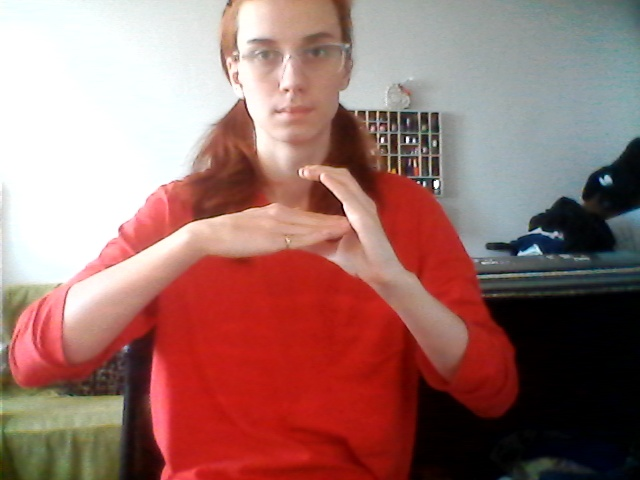e: (199, 161, 396, 297)
